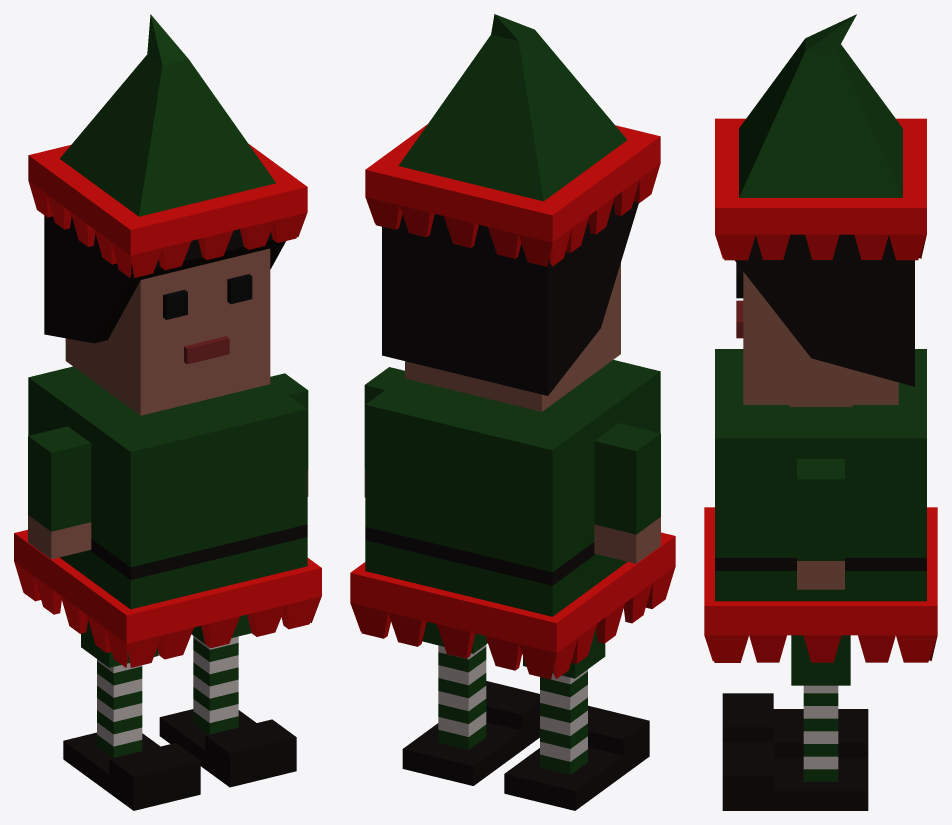
Rendered from Enemy.fbx.
3 views of the same model, side by side, from view 1: azimuth 30°, elevation 25°; view 2: azimuth 150°, elevation 25°; view 3: azimuth 270°, elevation 25° (orthographic). The views are drawn at different scales.
Visible parts, largest first — view 1: Lowpoly:pCube19, Cap, Legs, Skirt, Hair, Hands; view 2: Lowpoly:pCube19, Cap, Legs, Skirt, Hair, Hands; view 3: Lowpoly:pCube19, Cap, Legs, Hair, Skirt, Hands.
Part boxes in pixels (x1,y1,x2,y2): Lowpoly:pCube19: (28, 248, 307, 609); Cap: (28, 14, 307, 277); Legs: (63, 614, 296, 810); Skirt: (14, 529, 321, 667); Hair: (44, 215, 285, 343); Hands: (28, 373, 308, 559); Lowpoly:pCube19: (365, 241, 660, 616); Cap: (365, 14, 660, 266); Legs: (402, 621, 649, 810); Skirt: (350, 532, 675, 679); Hair: (382, 202, 638, 395); Hands: (364, 367, 660, 563); Lowpoly:pCube19: (715, 263, 926, 601); Cap: (715, 14, 926, 260); Legs: (722, 635, 868, 810); Hair: (735, 234, 914, 386); Skirt: (704, 507, 937, 662); Hands: (797, 459, 844, 589).
Size of the model in its own units: 0.4009 by 1.09 by 0.3044.
